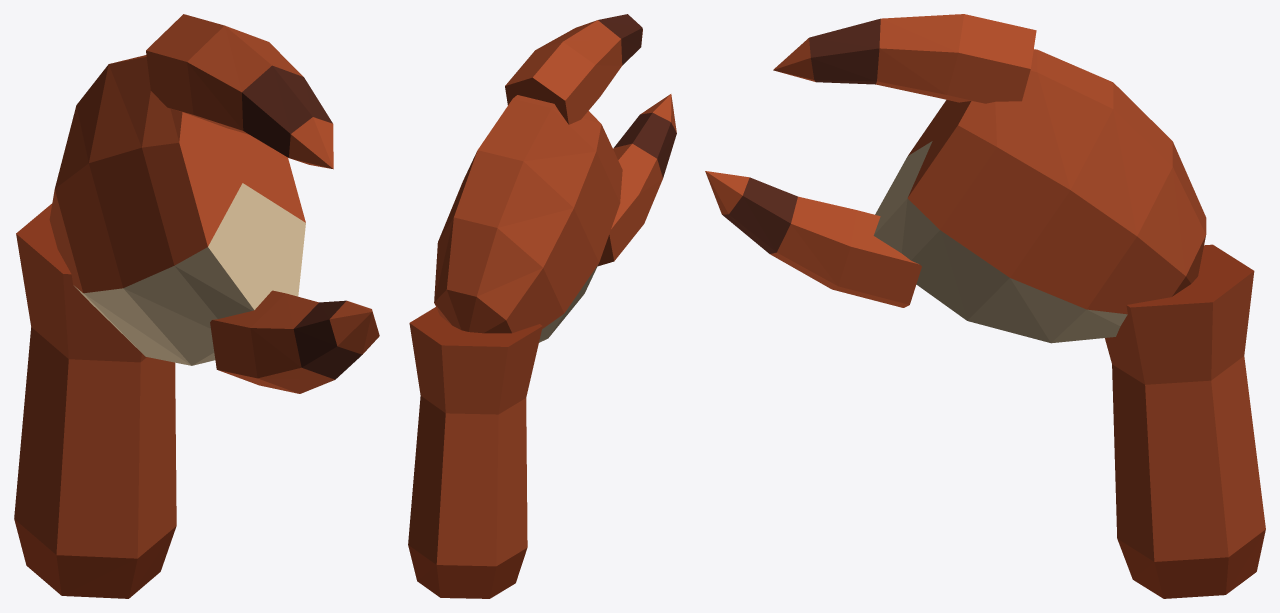
The model's file is crab_claw.gltf.
3 views of the same model, side by side, from view 1: azimuth 30°, elevation 25°; view 2: azimuth 150°, elevation 25°; view 3: azimuth 270°, elevation 25° (orthographic). The views are drawn at different scales.
Visible parts, largest first — view 1: crab_claw; view 2: crab_claw; view 3: crab_claw.
Part boxes in pixels (x1,y1,x2,y2): crab_claw: (14,14,379,598); crab_claw: (408,14,676,598); crab_claw: (705,14,1265,598).
Size of the model in its own units: 0.0443 by 0.1808 by 0.1625.
